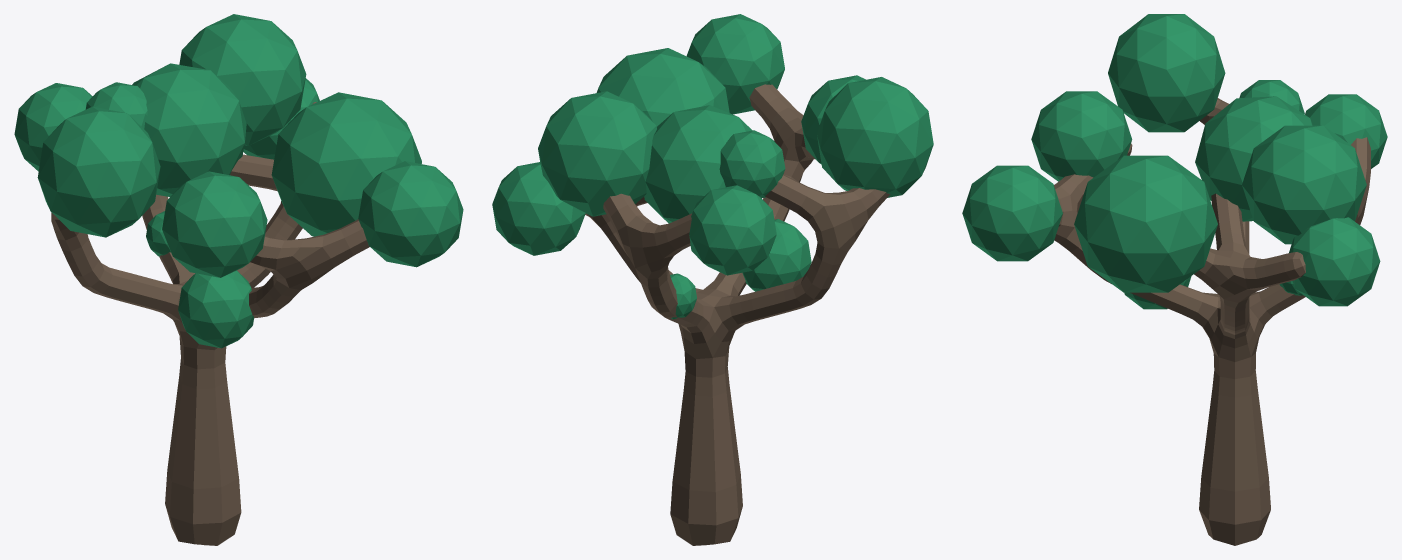
File: low poly beech MY ASSET.fbx
3 views of the same model, side by side, from view 1: azimuth 30°, elevation 25°; view 2: azimuth 150°, elevation 25°; view 3: azimuth 270°, elevation 25° (orthographic). The views are drawn at different scales.
Parts seen in each view (by area): view 1: wood tree, Icosphere.003, Icosphere.001, Icosphere.007, Icosphere.002, Icosphere, Icosphere.006, Icosphere.010, Icosphere.005, Icosphere.008, Icosphere.004, Icosphere.009; view 2: wood tree, Icosphere.002, Icosphere.001, Icosphere.007, Icosphere.005, Icosphere.003, Icosphere.006, Icosphere.004, Icosphere.008, Icosphere.010, Icosphere, Icosphere.009; view 3: wood tree, Icosphere.003, Icosphere.001, Icosphere.002, Icosphere.006, Icosphere, Icosphere.007, Icosphere.004, Icosphere.005, Icosphere.008.
Part boxes in pixels (x1=…): wood tree: x1=51, y1=102, x2=369, y2=545; Icosphere.003: x1=271, y1=92, x2=421, y2=236; Icosphere.001: x1=37, y1=106, x2=160, y2=237; Icosphere.007: x1=132, y1=63, x2=246, y2=196; Icosphere.002: x1=179, y1=14, x2=306, y2=145; Icosphere: x1=162, y1=171, x2=267, y2=277; Icosphere.006: x1=358, y1=161, x2=463, y2=267; Icosphere.010: x1=178, y1=270, x2=253, y2=348; Icosphere.005: x1=14, y1=83, x2=92, y2=171; Icosphere.008: x1=85, y1=82, x2=147, y2=128; Icosphere.004: x1=243, y1=78, x2=319, y2=159; Icosphere.009: x1=146, y1=211, x2=170, y2=256; wood tree: x1=585, y1=84, x2=890, y2=545; Icosphere.002: x1=538, y1=91, x2=656, y2=216; Icosphere.001: x1=817, y1=77, x2=933, y2=197; Icosphere.007: x1=644, y1=105, x2=752, y2=223; Icosphere.005: x1=689, y1=185, x2=776, y2=275; Icosphere.003: x1=596, y1=48, x2=729, y2=126; Icosphere.006: x1=686, y1=14, x2=784, y2=114; Icosphere.004: x1=492, y1=162, x2=585, y2=255; Icosphere.008: x1=719, y1=130, x2=785, y2=197; Icosphere.010: x1=742, y1=219, x2=811, y2=291; Icosphere: x1=801, y1=75, x2=865, y2=164; Icosphere.009: x1=670, y1=273, x2=696, y2=319; wood tree: x1=1054, y1=98, x2=1370, y2=545; Icosphere.003: x1=1074, y1=155, x2=1217, y2=292; Icosphere.001: x1=1108, y1=14, x2=1225, y2=132; Icosphere.002: x1=1242, y1=125, x2=1366, y2=244; Icosphere.006: x1=962, y1=165, x2=1062, y2=261; Icosphere: x1=1031, y1=91, x2=1132, y2=181; Icosphere.007: x1=1195, y1=96, x2=1312, y2=221; Icosphere.004: x1=1289, y1=217, x2=1380, y2=306; Icosphere.005: x1=1305, y1=94, x2=1387, y2=168; Icosphere.008: x1=1239, y1=80, x2=1304, y2=114.
Size of the model in its own units: 618 by 818 by 681.
